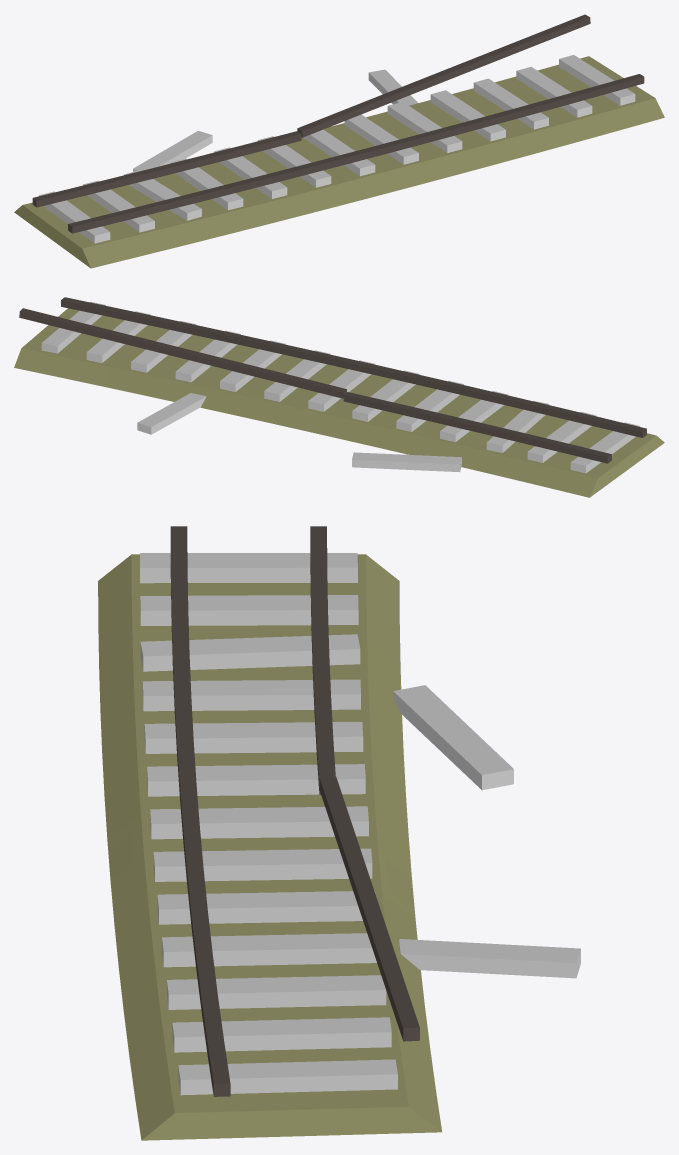
File: SM_Via_CurvaR240_v4_Danada_LOD1.fbx
3 views of the same model, one above another, from view 1: azimuth 30°, elevation 25°; view 2: azimuth 150°, elevation 25°; view 3: azimuth 270°, elevation 25° (orthographic). The views are drawn at different scales.
Parts seen in each view (by area): view 1: SM_via_trazado_v24_LOD1; view 2: SM_via_trazado_v24_LOD1; view 3: SM_via_trazado_v24_LOD1.
Boxes of the visible parts, x1=… form: SM_via_trazado_v24_LOD1: x1=14, y1=14, x2=664, y2=268; SM_via_trazado_v24_LOD1: x1=14, y1=297, x2=664, y2=497; SM_via_trazado_v24_LOD1: x1=98, y1=526, x2=580, y2=1140.
Bounding box in the file's own units: 15.81 × 1.38 × 5.77.
